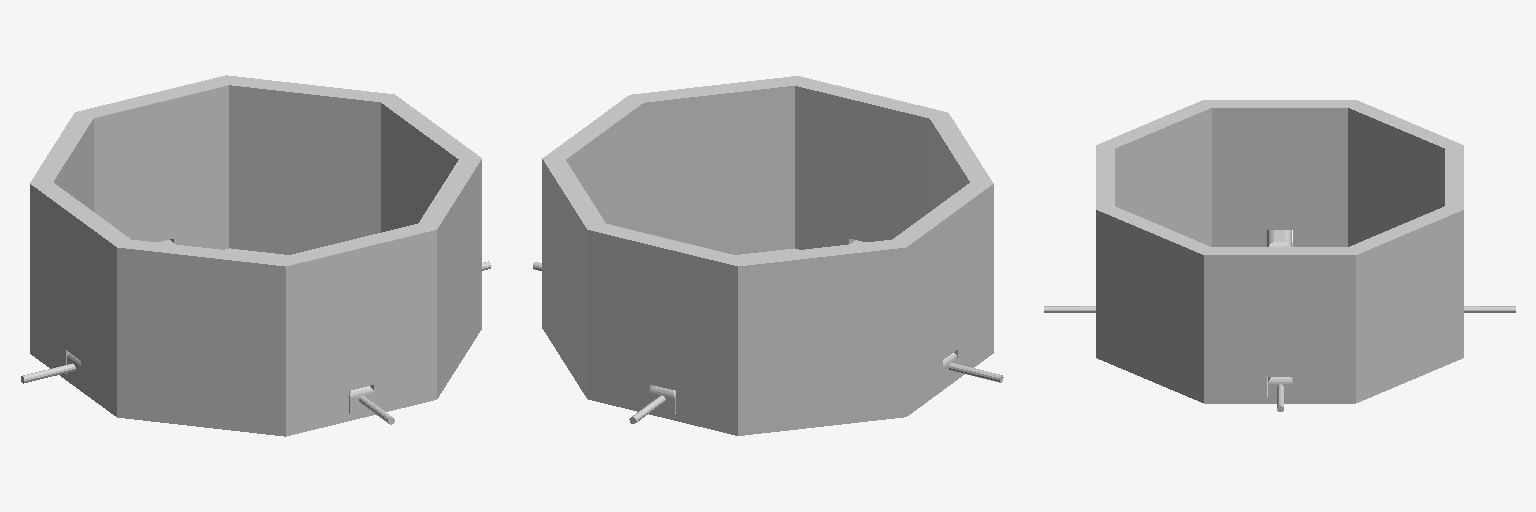
URDF robot description (mesh_test):

<robot name="mesh_test">
  <!-- Dummy root link -->
  <link name="base_footprint"/>

  <!-- Joint connecting base_footprint to base_link -->
  <joint name="base_footprint_joint" type="fixed">
    <parent link="base_footprint"/>
    <child link="base_link"/>
    <origin xyz="0 0 0" rpy="0 0 0"/>
  </joint>

  <link name="base_link">
    <visual>
      <geometry>
        <mesh filename="package://robot_ros/meshes/base_link.dae" scale="1 1 1"/>
      </geometry>
    </visual>
  </link>
</robot>

--- Facts derived from the render (not from the file) ---
Views: 3 orthographic renders of the robot side by side, from view 1: azimuth 30°, elevation 25°; view 2: azimuth 150°, elevation 25°; view 3: azimuth 270°, elevation 25°.
Robot: mesh_test — 2 links, 1 joints (1 fixed); root link base_footprint; default pose: every joint at zero.
Links seen in each view (by area): view 1: base_link; view 2: base_link; view 3: base_link.
Link boxes in pixels (bbox=[...]): base_link: bbox=[21, 75, 491, 436]; base_link: bbox=[533, 76, 1003, 435]; base_link: bbox=[1044, 100, 1515, 411].
Bounding box of the posed robot: 0.21 × 0.21 × 0.073 m (x, y, z).
1 mesh visuals loaded from 1 distinct referenced files (1 Collada DAE).
